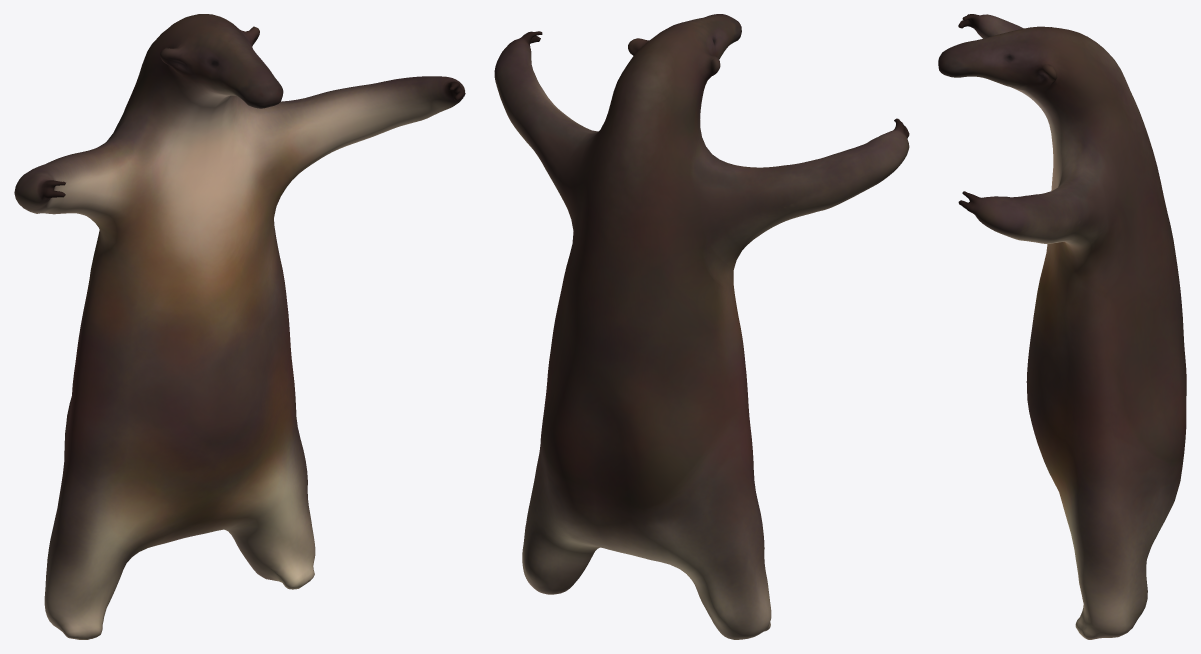
The model's file is sable_anteater__anteater.glb.
3 views of the same model, side by side, from view 1: azimuth 30°, elevation 25°; view 2: azimuth 150°, elevation 25°; view 3: azimuth 270°, elevation 25° (orthographic). The views are drawn at different scales.
Parts seen in each view (by area): view 1: Object_2; view 2: Object_2; view 3: Object_2.
Part boxes in pixels (x1,y1,x2,y2): Object_2: (14, 14, 465, 639); Object_2: (494, 14, 909, 639); Object_2: (938, 14, 1186, 639).
Size of the model in its own units: 107 by 142 by 57.1.
Materials: 1 (1 with a texture image).
